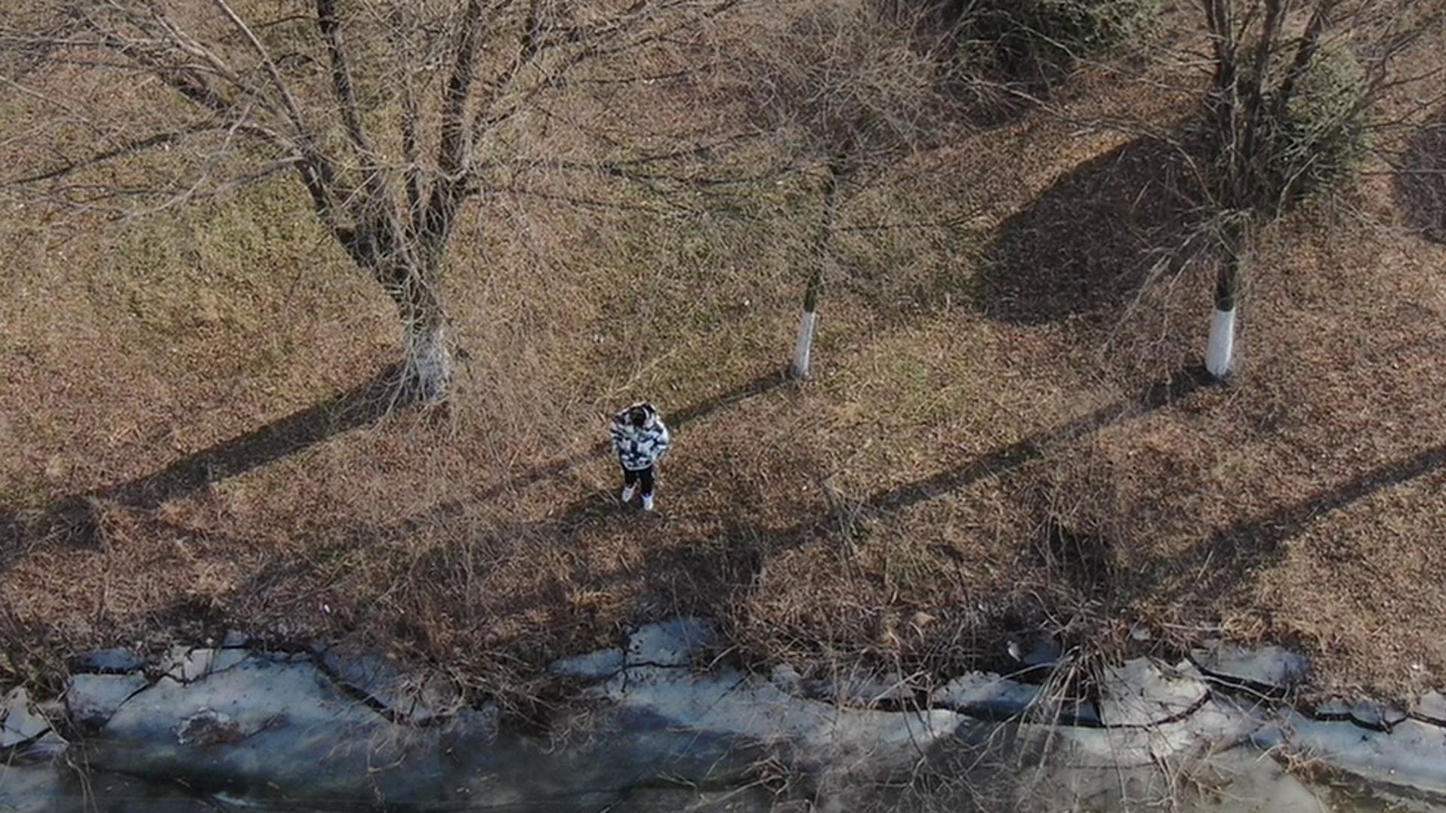human: (626, 423, 678, 537)
